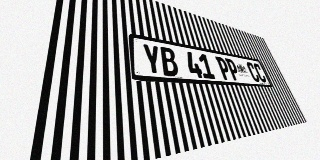1: (197, 53, 215, 79)
4: (184, 51, 204, 78)
B: (159, 46, 180, 77)
C: (245, 62, 261, 82), (252, 63, 267, 83)
P: (215, 56, 232, 80), (225, 58, 241, 81)
Y: (141, 43, 163, 75)
